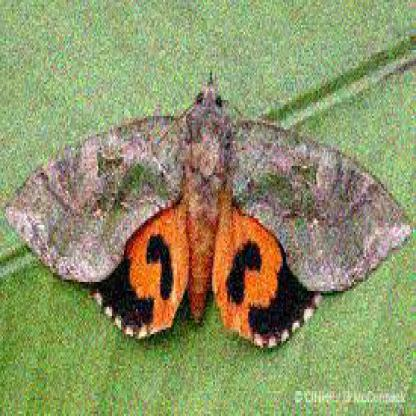fruit sucking moth: (1, 76, 411, 356)
